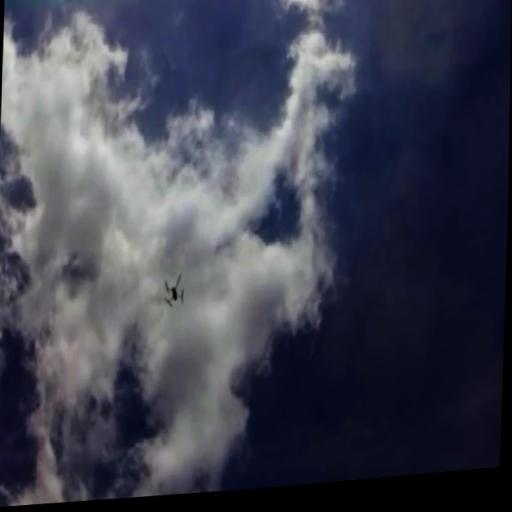drones: (160, 270, 188, 311)
